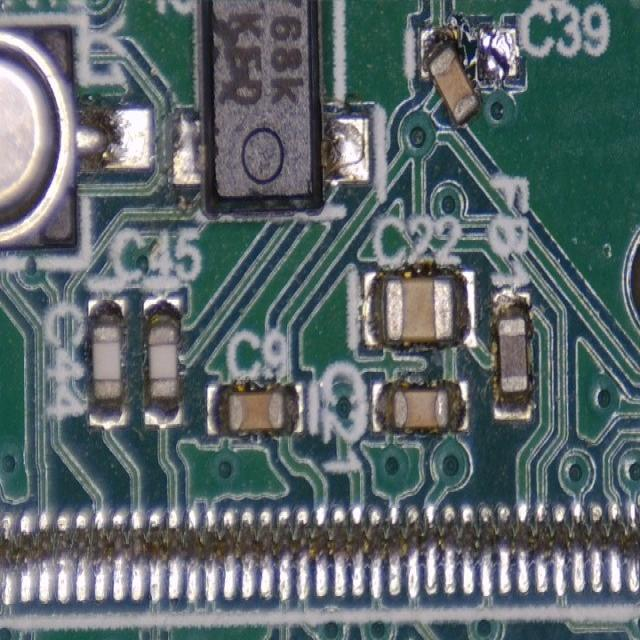Incorrect_installation: (419, 27, 519, 128)
